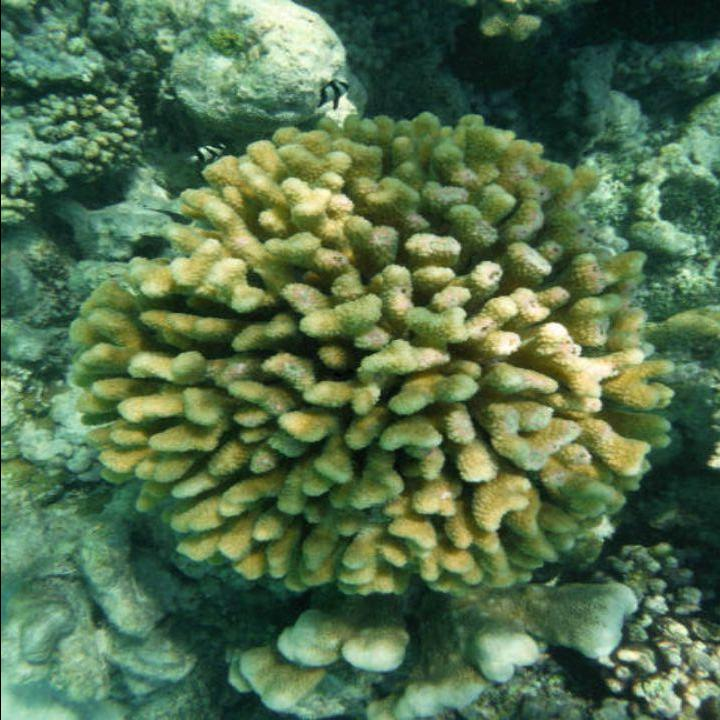Healthy Coral: (71, 106, 678, 635)
